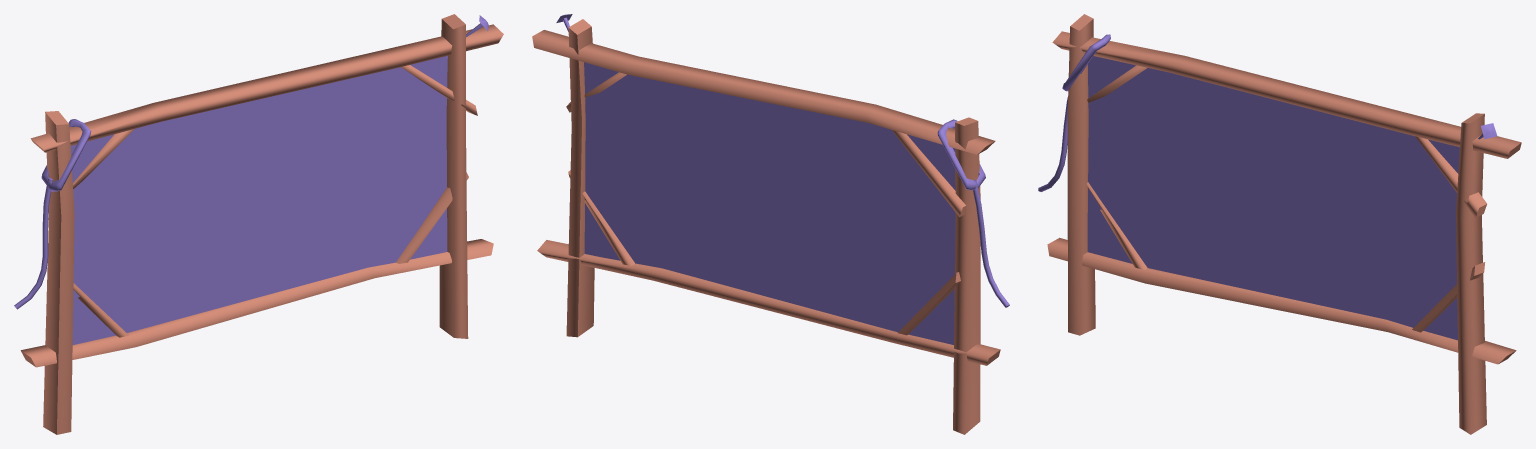
Rendered from prop_wood_b.fbx.
3 views of the same model, side by side, from view 1: azimuth 30°, elevation 25°; view 2: azimuth 150°, elevation 25°; view 3: azimuth 330°, elevation 25° (orthographic). The views are drawn at different scales.
Visible parts, largest first — view 1: Cube.033, Cube.031; view 2: Cube.033, Cube.031; view 3: Cube.033, Cube.031.
Part boxes in pixels (x1=…): Cube.033: x1=14, y1=15, x2=488, y2=344; Cube.031: x1=20, y1=14, x2=503, y2=434; Cube.033: x1=556, y1=14, x2=1009, y2=344; Cube.031: x1=532, y1=19, x2=1000, y2=434; Cube.033: x1=1038, y1=34, x2=1497, y2=340; Cube.031: x1=1047, y1=14, x2=1521, y2=434.
Bounding box in the file's own units: 1.95 × 1.22 × 0.1546.
